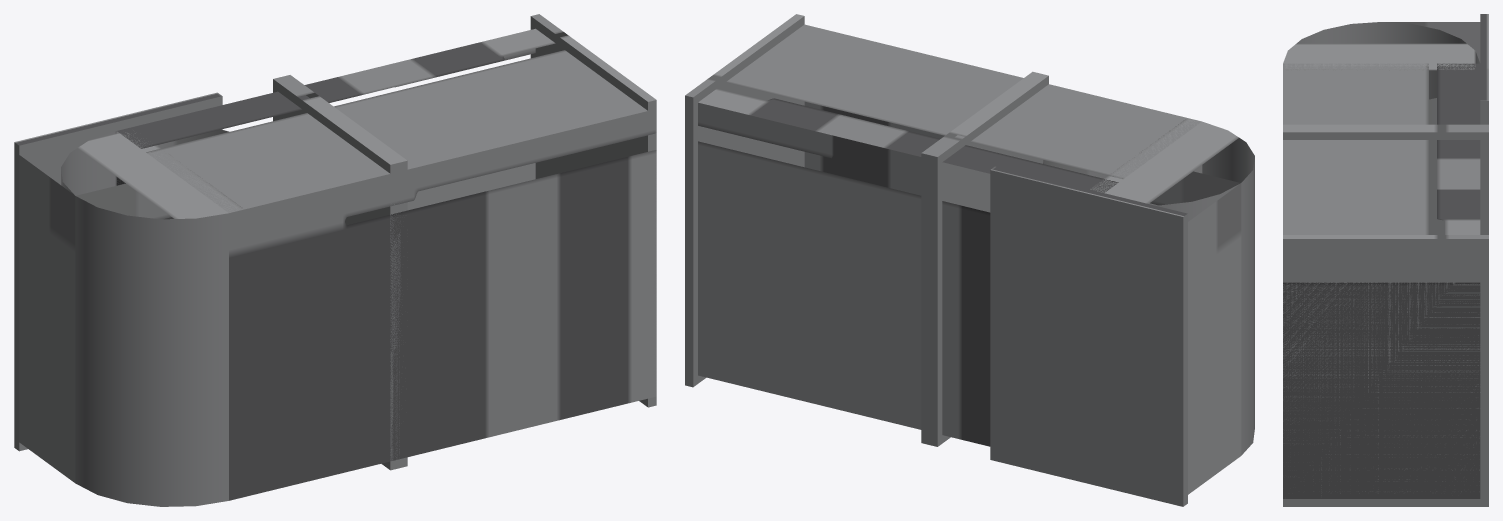
The picture shows the model from 3 angles, left to right: view 1: azimuth 30°, elevation 25°; view 2: azimuth 150°, elevation 25°; view 3: azimuth 270°, elevation 25°; orthographic projection. The views are drawn at different scales.
Bounding box in the file's own units: 0.917 × 0.51 × 0.355.
